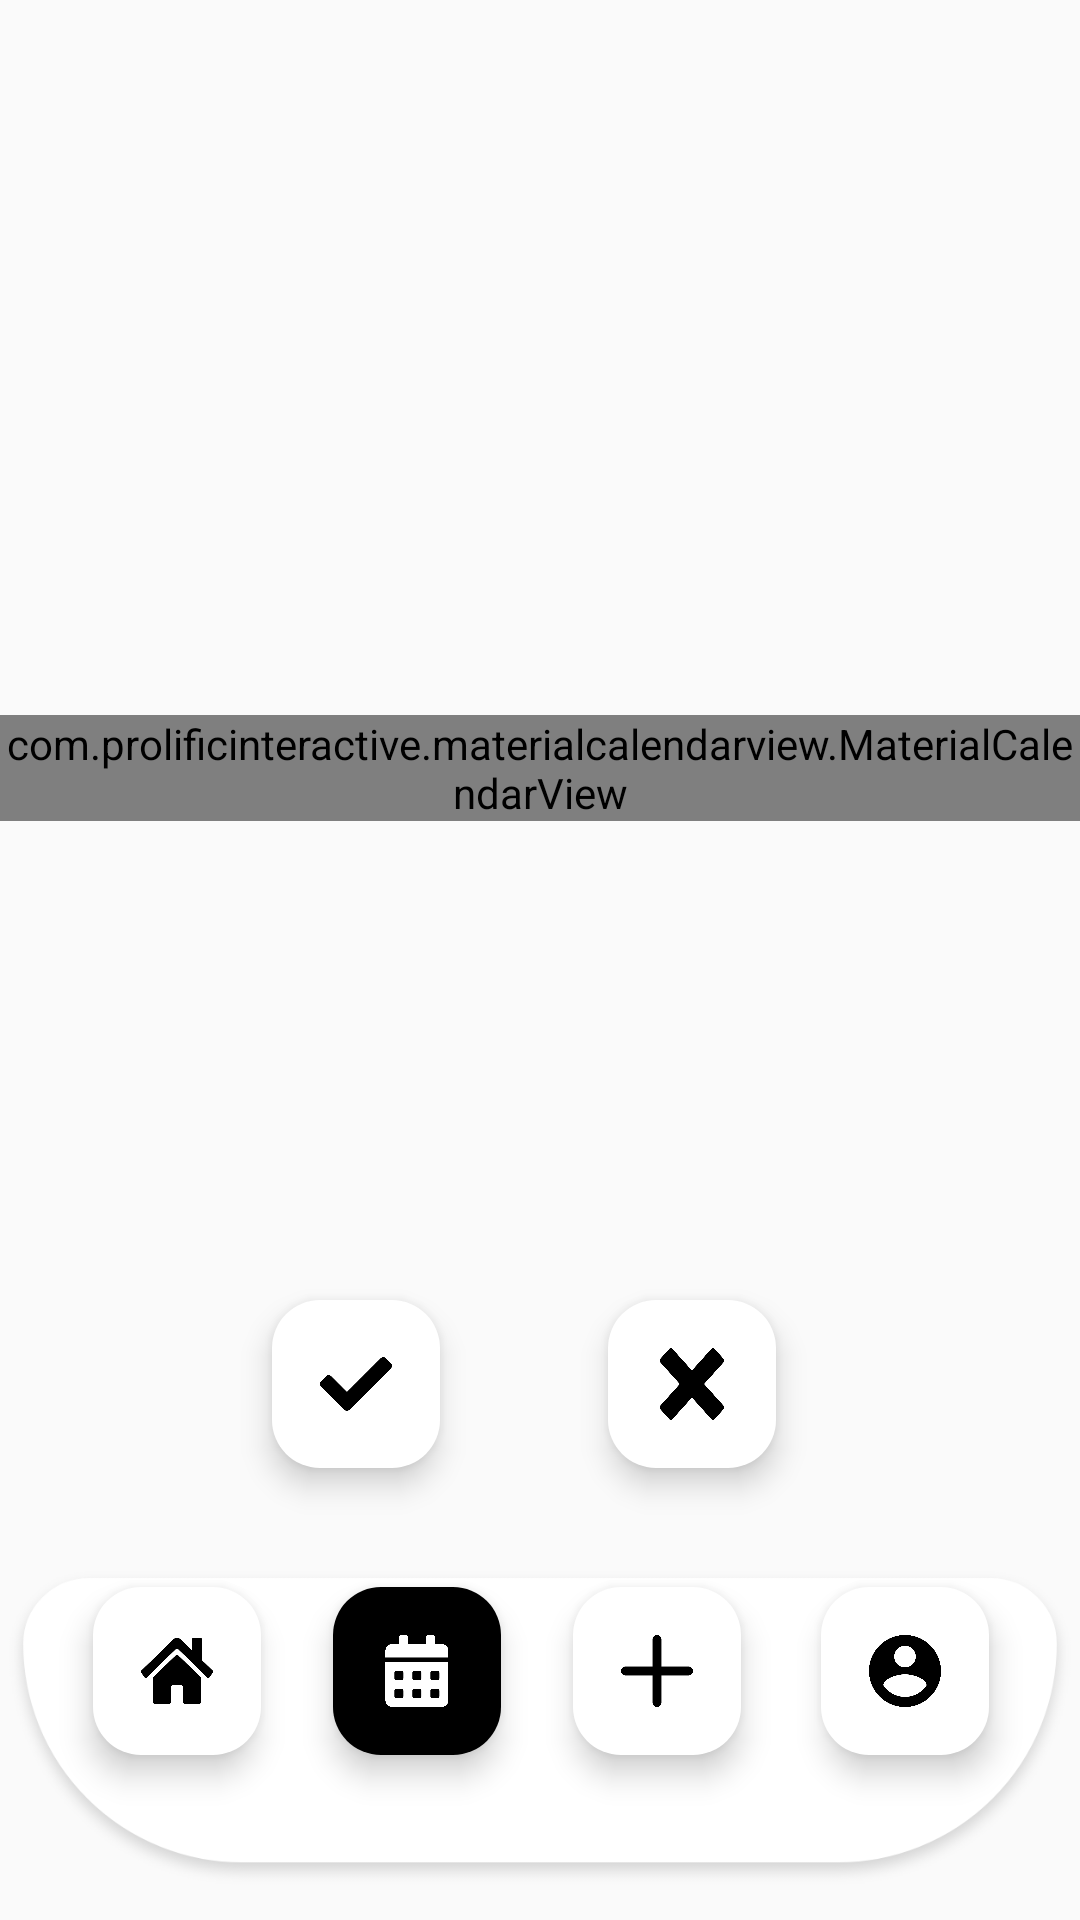

Locate icon controls on the screen. Image size 1080px x 1920px, boxes as (x1, y1, x2, y2).
calendar: (333, 1587, 501, 1755)
tik: (272, 1300, 440, 1468)
